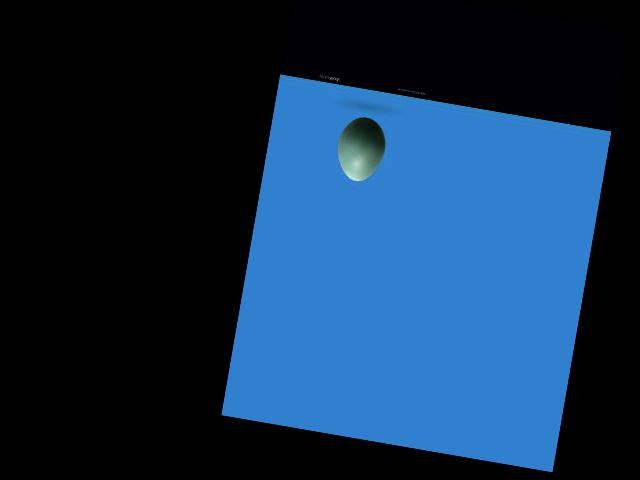egg: (333, 114, 390, 184)
